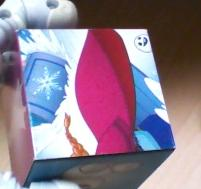Red1: (16, 30, 175, 159)
